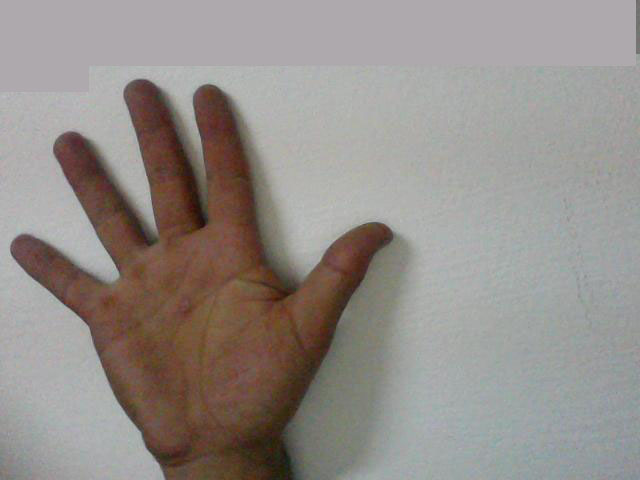hand: (11, 70, 408, 452)
